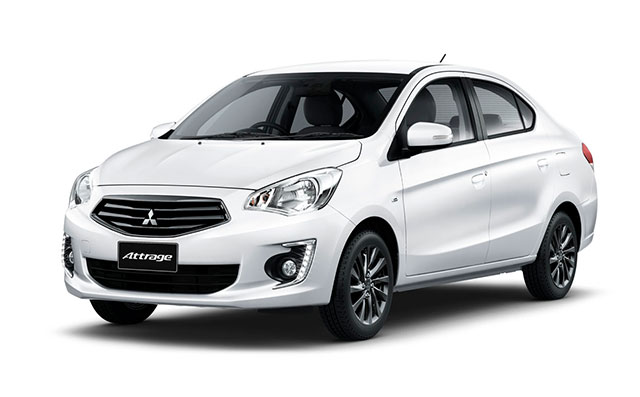sedan: (63, 58, 600, 345)
